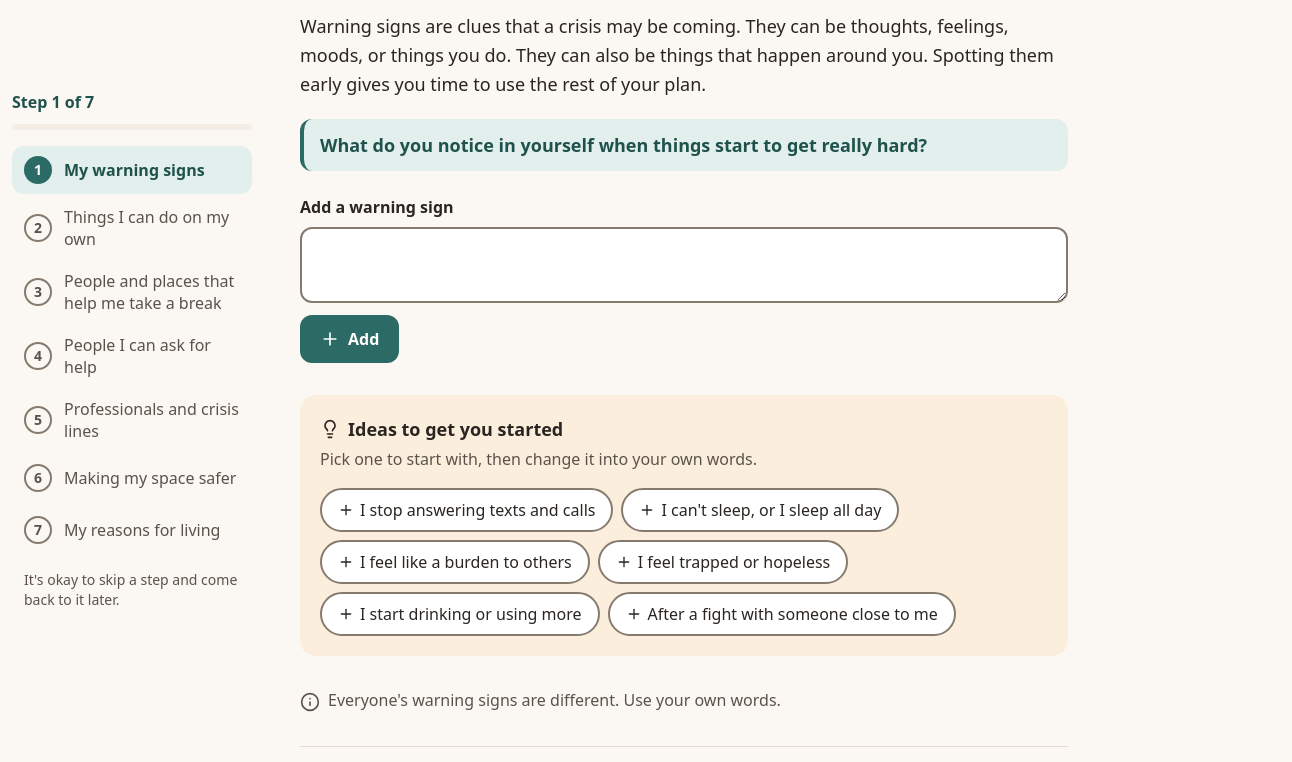
Scenario: BuilderScreen › adds an entry with Enter and saves it right away
This screenshot has width=1292, height=762.
Type "I stop answering my phone" into the text box labelled "Add a warning sign". click: (684, 265)
box: [300, 227, 1068, 303]
Then press Enter
(page scrolled)
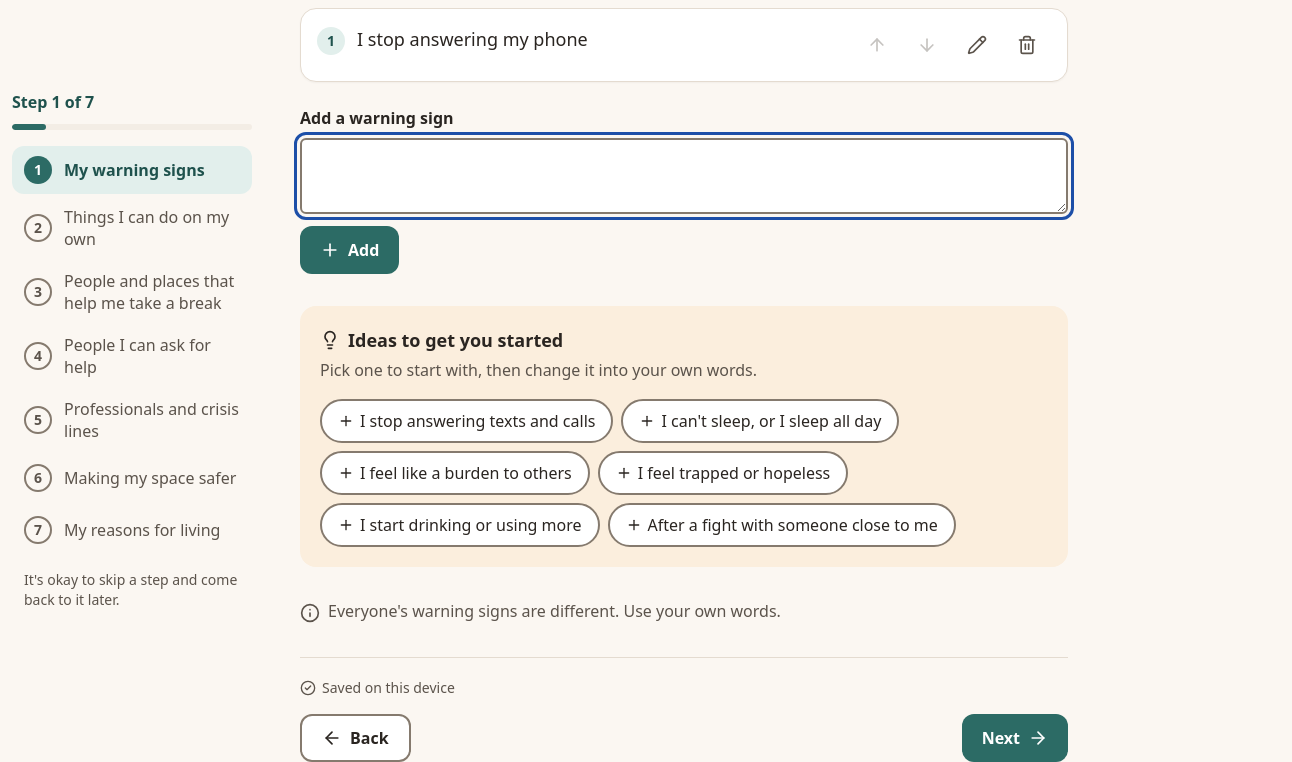
Check: the text box labelled "Add a warning sign" is empty, box [300, 138, 1068, 214]
Check: the text "I stop answering my phone" is shown, box [357, 27, 588, 51]
